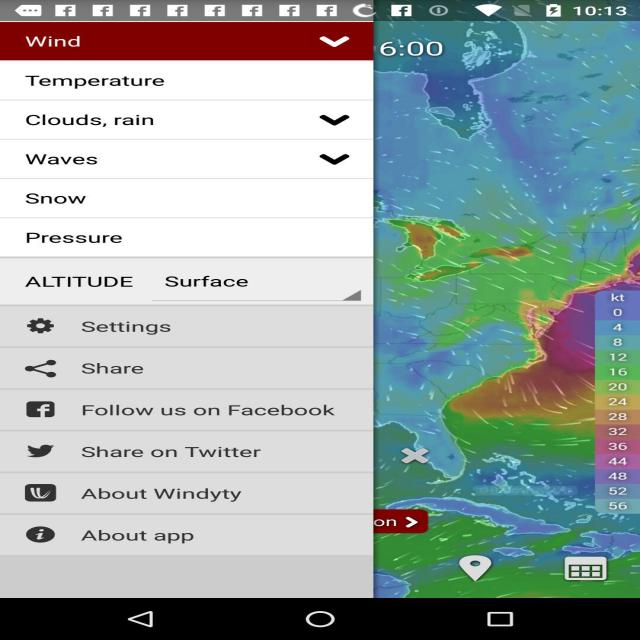button: (3, 392, 353, 428), (18, 109, 374, 139), (22, 258, 274, 299), (15, 146, 358, 174), (3, 469, 246, 503), (19, 33, 370, 56), (16, 306, 216, 339), (2, 348, 192, 381), (24, 437, 303, 458), (21, 66, 188, 100), (20, 518, 228, 544), (14, 224, 148, 247), (10, 191, 137, 211)
image: (384, 22, 624, 589)
